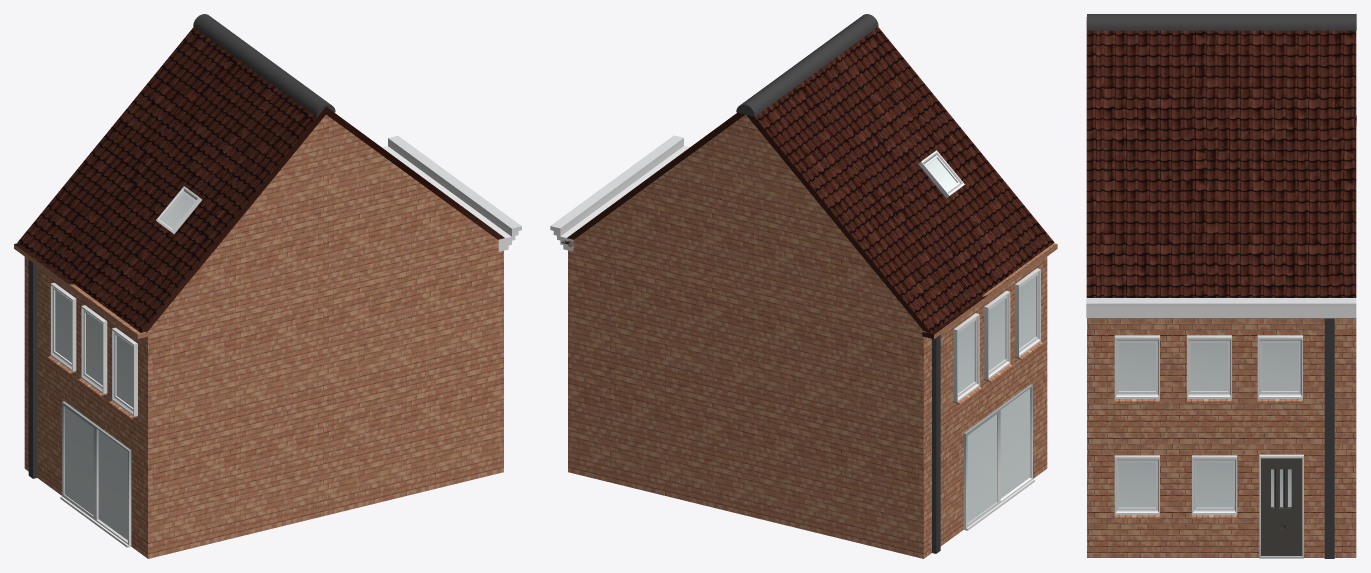
File: It stee 10.fbx
3 renders of one model, left to right at view 1: azimuth 30°, elevation 25°; view 2: azimuth 150°, elevation 25°; view 3: azimuth 270°, elevation 25°, orthographic. The views are drawn at different scales.
Parts seen in each view (by area): view 1: It_Heafek_16; view 2: It_Heafek_16; view 3: It_Heafek_16.
Boxes of the visible parts, left/top/right/bottom form: It_Heafek_16: left=14, top=14, right=521, bottom=558; It_Heafek_16: left=550, top=14, right=1057, bottom=558; It_Heafek_16: left=1086, top=14, right=1356, bottom=558.
Size of the model in its own units: 1023 by 1046 by 572.
